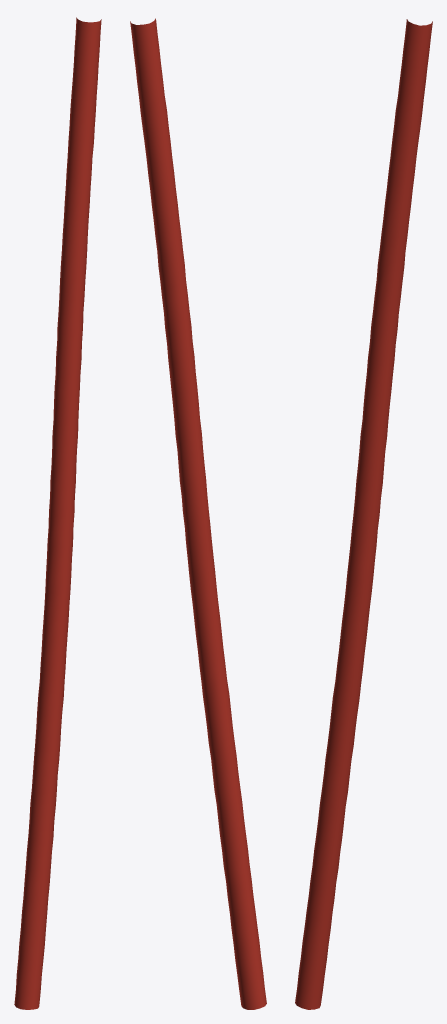
Rendered from brachial_artery_right.glb.
3 renders of one model, left to right at view 1: azimuth 30°, elevation 25°; view 2: azimuth 150°, elevation 25°; view 3: azimuth 330°, elevation 25°, orthographic. The views are drawn at different scales.
Bounding box in the file's own units: 0.0351 × 0.3008 × 0.0201.
